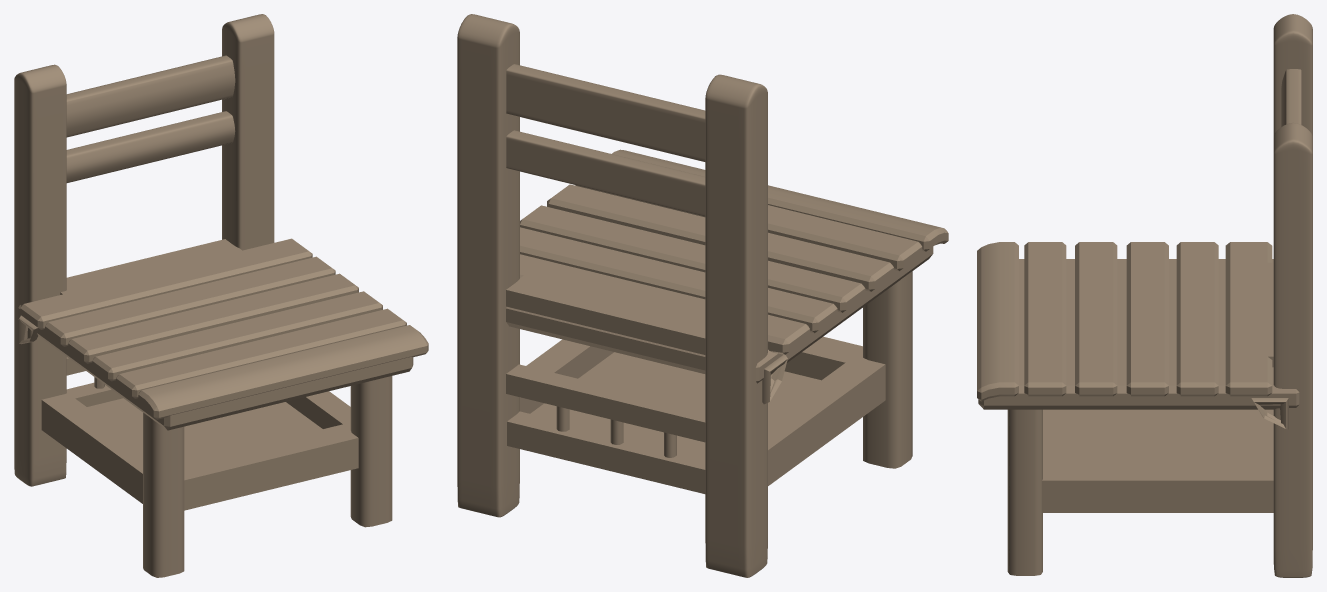
Rendered from chair_head_wood_1.fbx.
3 renders of one model, left to right at view 1: azimuth 30°, elevation 25°; view 2: azimuth 150°, elevation 25°; view 3: azimuth 270°, elevation 25°, orthographic. The views are drawn at different scales.
Parts seen in each view (by area): view 1: chair_head_wood_1; view 2: chair_head_wood_1; view 3: chair_head_wood_1.
Part boxes in pixels (x1=…): chair_head_wood_1: x1=14, y1=14, x2=428, y2=577; chair_head_wood_1: x1=457, y1=14, x2=948, y2=577; chair_head_wood_1: x1=977, y1=14, x2=1312, y2=577.
Bounding box in the file's own units: 46.47 × 65.97 × 45.84.
